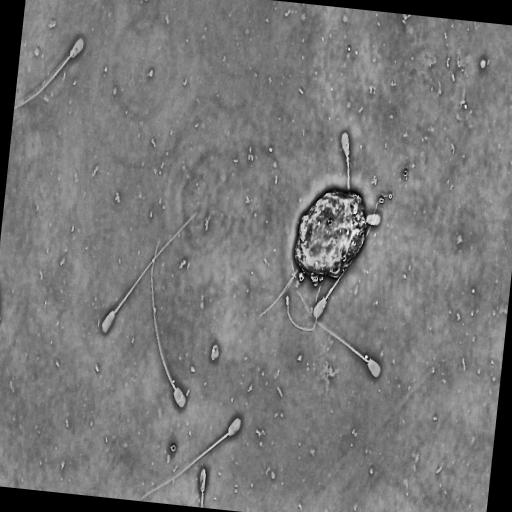dirt-particles: (293, 185, 369, 289), (210, 342, 221, 361)
loose-tail: (256, 269, 296, 322), (285, 292, 332, 336)
normal: (100, 207, 200, 337), (312, 190, 397, 322), (136, 414, 243, 501), (294, 285, 382, 381), (150, 234, 188, 411), (14, 35, 86, 114), (339, 129, 350, 190)
proximal-droplet: (346, 156, 349, 162)
